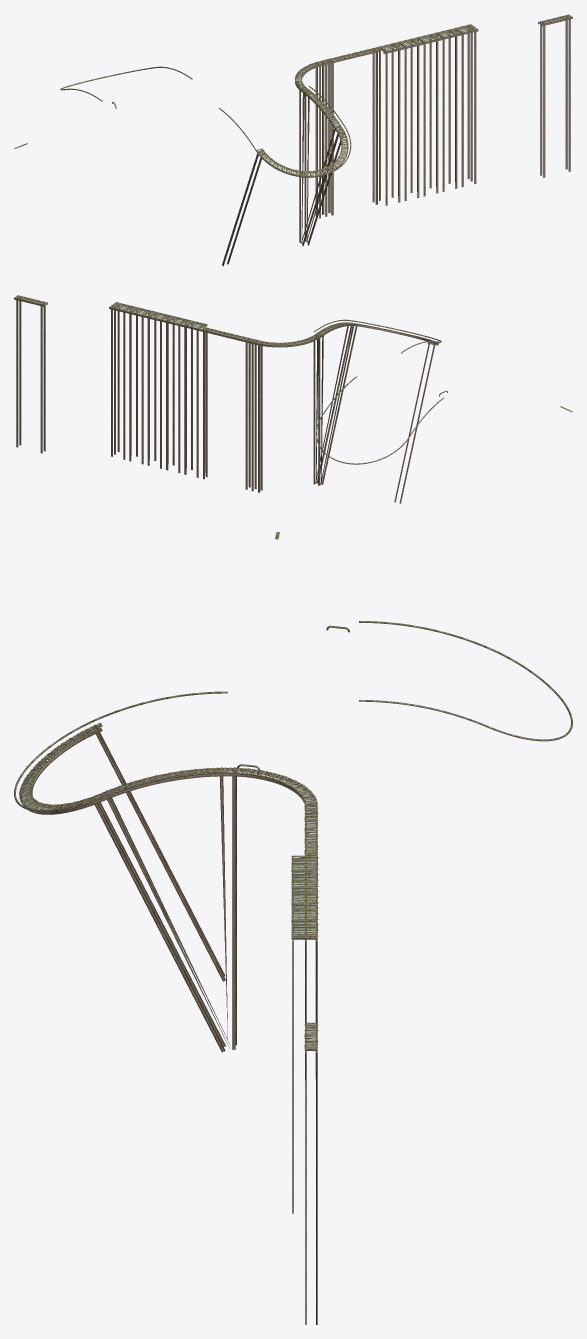
3 views of the same model, one above another, from view 1: azimuth 30°, elevation 25°; view 2: azimuth 150°, elevation 25°; view 3: azimuth 270°, elevation 25° (orthographic). The views are drawn at different scales.
Visible parts, largest first — view 1: Ramp.001, Ramp.002, Ramp.013, Ramp.005, Ramp.003, Ramp.004, pipe.001; view 2: Ramp.001, Ramp.002, Ramp.003, Ramp.013, Ramp.005, Ramp.004, pipe.002, pipe.001; view 3: Ramp.005, Ramp.001, Ramp.004, Ramp.003, Ramp.013, pipe.001, pipe.002.
Part boxes in pixels (box(x1,y1,x2,y2)): Ramp.001: box(377, 24, 478, 205); Ramp.002: box(320, 47, 379, 216); Ramp.013: box(538, 14, 572, 177); Ramp.005: box(222, 128, 348, 266); Ramp.003: box(294, 61, 323, 242); Ramp.004: box(301, 88, 342, 243); pipe.001: box(219, 86, 351, 176); Ramp.001: box(109, 302, 207, 477); Ramp.002: box(200, 327, 258, 491); Ramp.003: box(255, 334, 321, 492); Ramp.013: box(14, 295, 47, 453); Ramp.005: box(316, 322, 439, 503); Ramp.004: box(315, 322, 355, 484); pipe.002: box(316, 376, 443, 464); pipe.001: box(314, 319, 441, 353); Ramp.005: box(19, 723, 225, 1052); Ramp.001: box(291, 855, 318, 1213); Ramp.004: box(101, 767, 229, 1048); Ramp.003: box(228, 767, 317, 1079); Ramp.013: box(304, 1022, 318, 1324); pipe.001: box(14, 691, 227, 811); pipe.002: box(359, 621, 572, 741).
Size of the model in its own units: 8955 by 2577 by 4261.
